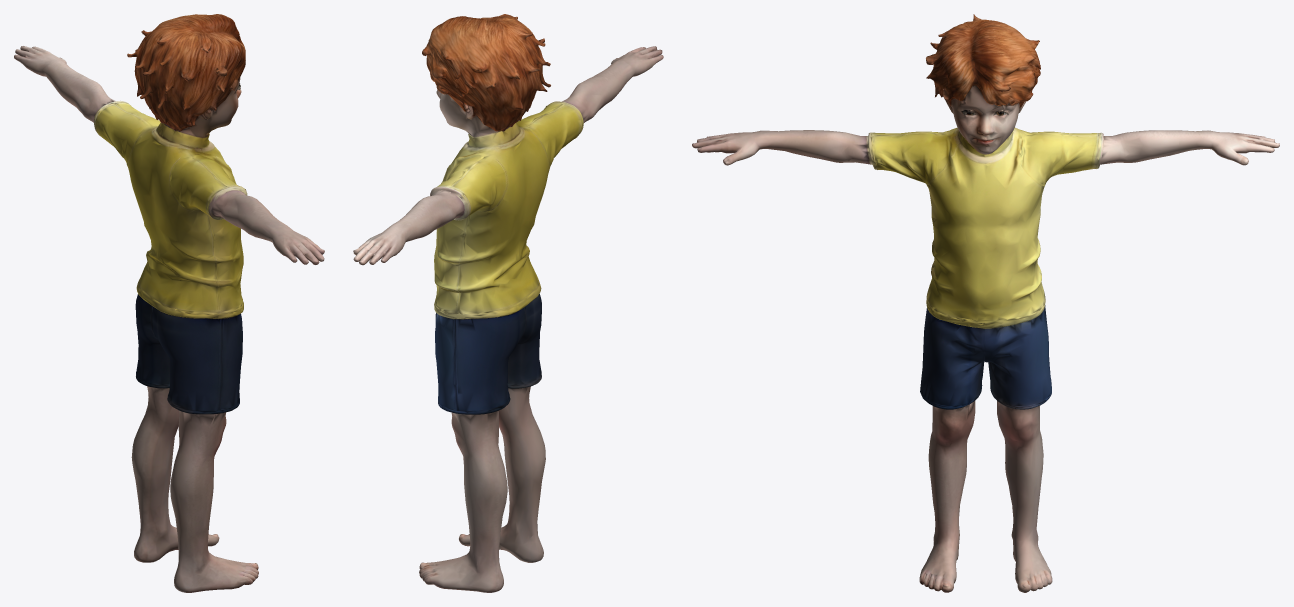
File: the-boy.glb
3 views of the same model, side by side, from view 1: azimuth 30°, elevation 25°; view 2: azimuth 150°, elevation 25°; view 3: azimuth 270°, elevation 25° (orthographic).
Parts seen in each view (by area): view 1: the-boy; view 2: the-boy; view 3: the-boy.
Part boxes in pixels (left/top/right/bottom): the-boy: left=14, top=14, right=324, bottom=592; the-boy: left=353, top=14, right=663, bottom=592; the-boy: left=692, top=14, right=1279, bottom=592.
Size of the model in its own units: 0.2065 by 0.979 by 0.9527.
1 material, 1 textured.
